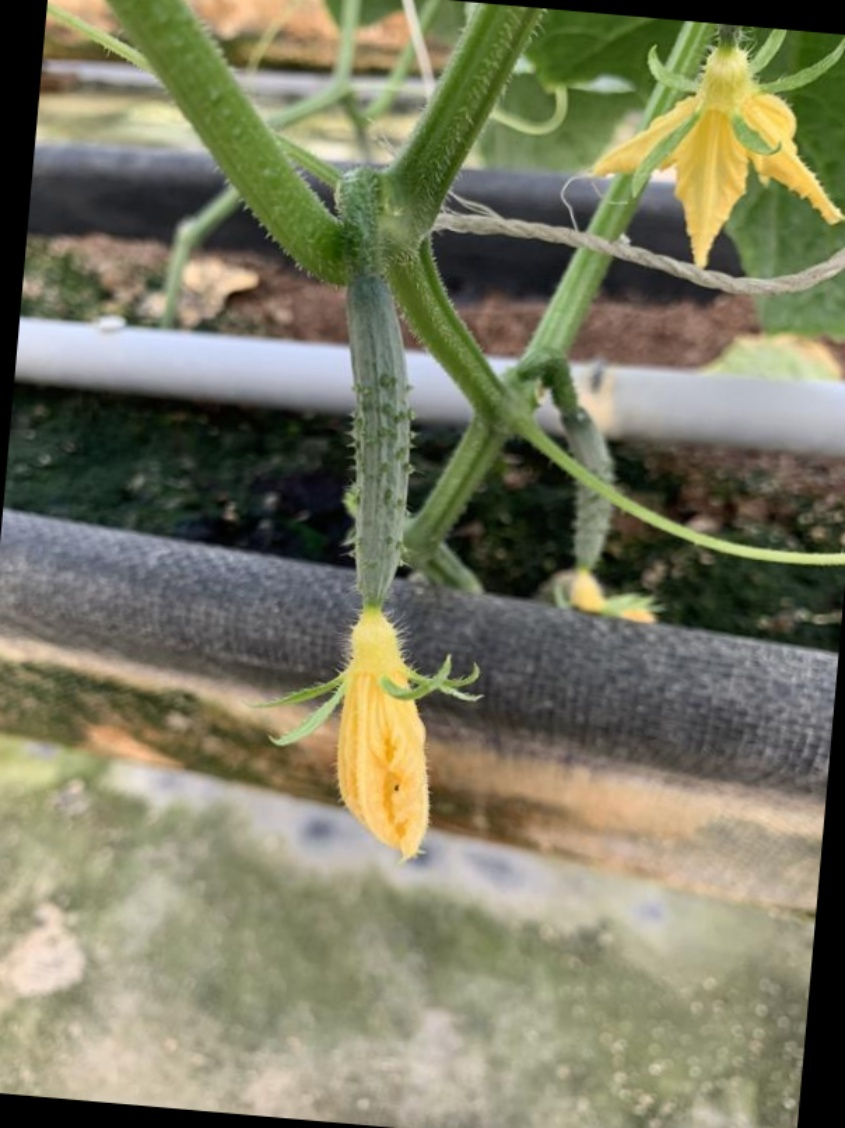bear: (277, 275, 465, 859)
